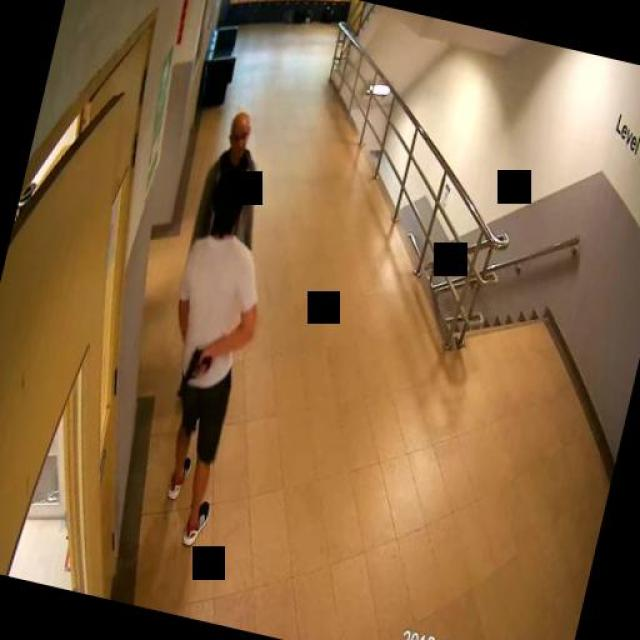gun: (176, 345, 212, 399)
